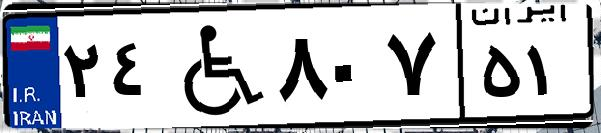0: (330, 28, 385, 110)
1: (525, 38, 570, 115)
2: (57, 26, 110, 100)
4: (110, 28, 158, 98)
5: (475, 38, 525, 113)
7: (385, 28, 445, 110)
8: (270, 28, 330, 110)
ژ (معلولین و جانبازان): (158, 12, 270, 120)
